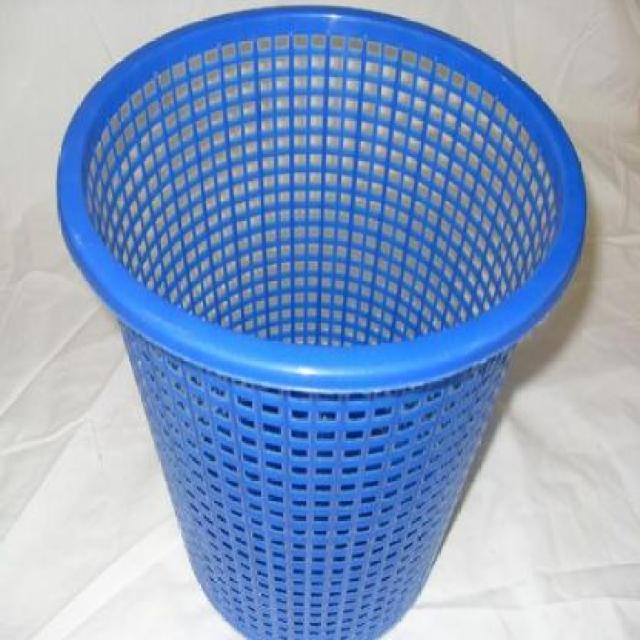dustbin: (52, 0, 590, 640)
